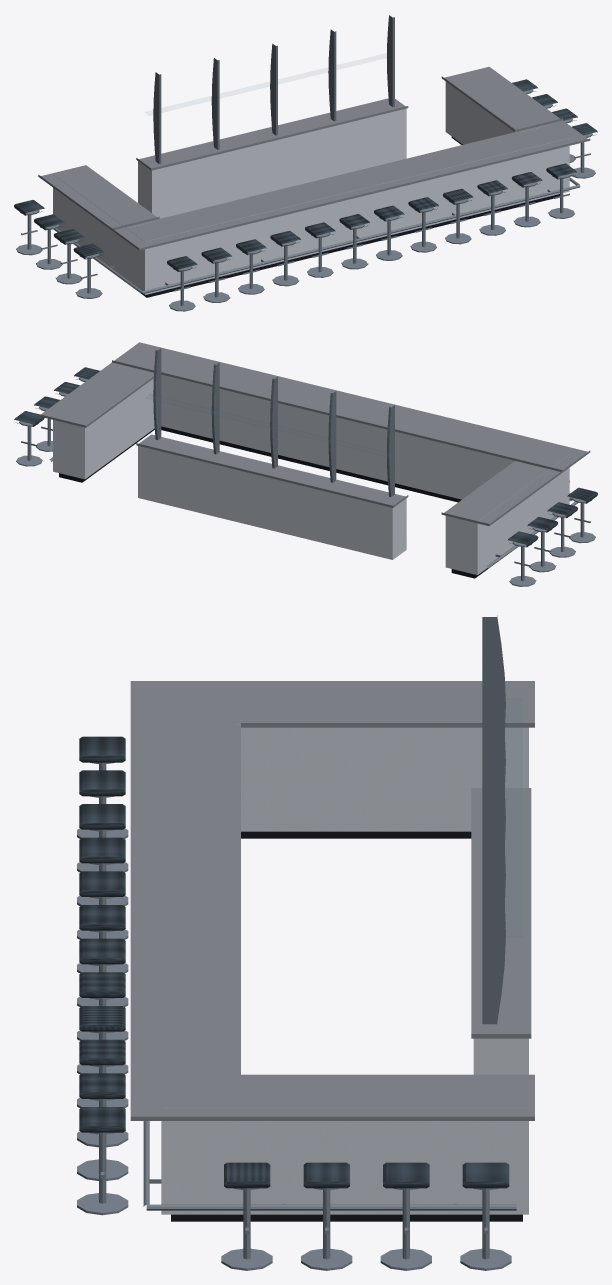
3 renders of one model, top to bottom at view 1: azimuth 30°, elevation 25°; view 2: azimuth 150°, elevation 25°; view 3: azimuth 270°, elevation 25°, orthographic. The views are drawn at different scales.
Parts seen in each view (by area): view 1: Counter_Body, Counter_Top_Slate, Back_Bar, Stool_Frame, Stool_Cushions, Back_Bar_Top, Branch_Fins, Foot_Rail, Counter_Plinth; view 2: Counter_Body, Counter_Top_Slate, Back_Bar, Back_Bar_Top, Branch_Fins, Stool_Frame, Stool_Cushions, Counter_Plinth; view 3: Counter_Top_Slate, Counter_Body, Stool_Cushions, Stool_Frame, Back_Bar_Top, Branch_Fins, Counter_Plinth, Foot_Rail, Back_Bar.
Part boxes in pixels (box(x1,y1,x2,y2)): Counter_Body: box(53, 79, 569, 294); Counter_Top_Slate: box(38, 66, 590, 250); Back_Bar: box(138, 108, 406, 218); Stool_Frame: box(16, 89, 595, 311); Stool_Cushions: box(14, 79, 597, 271); Back_Bar_Top: box(136, 98, 408, 170); Branch_Fins: box(153, 15, 394, 163); Foot_Rail: box(53, 177, 580, 293); Counter_Plinth: box(141, 137, 559, 297); Counter_Body: box(53, 374, 569, 574); Counter_Top_Slate: box(38, 342, 590, 526); Back_Bar: box(138, 446, 406, 559); Back_Bar_Top: box(136, 434, 408, 507); Branch_Fins: box(153, 348, 394, 496); Stool_Frame: box(16, 377, 595, 586); Stool_Cushions: box(14, 367, 597, 547); Counter_Plinth: box(59, 426, 488, 578); Counter_Top_Slate: box(130, 681, 534, 1120); Counter_Body: box(161, 724, 528, 1214); Stool_Cushions: box(79, 736, 509, 1188); Stool_Frame: box(77, 762, 511, 1270); Back_Bar_Top: box(471, 788, 531, 1038); Branch_Fins: box(482, 615, 505, 1024); Counter_Plinth: box(171, 831, 522, 1221); Foot_Rail: box(143, 1121, 516, 1210); Back_Bar: box(473, 1038, 528, 1074).
Size of what is drawn, in the model's own units: 9.74 by 2.6 by 3.74.
Materials: 7 (6 with a texture image).
